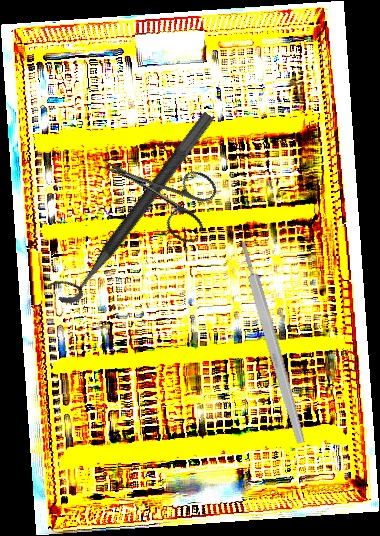Fixation Ring: (44, 98, 216, 311)
Iris Scissors: (87, 133, 224, 247)
Scalpel Handle: (237, 240, 308, 445)
